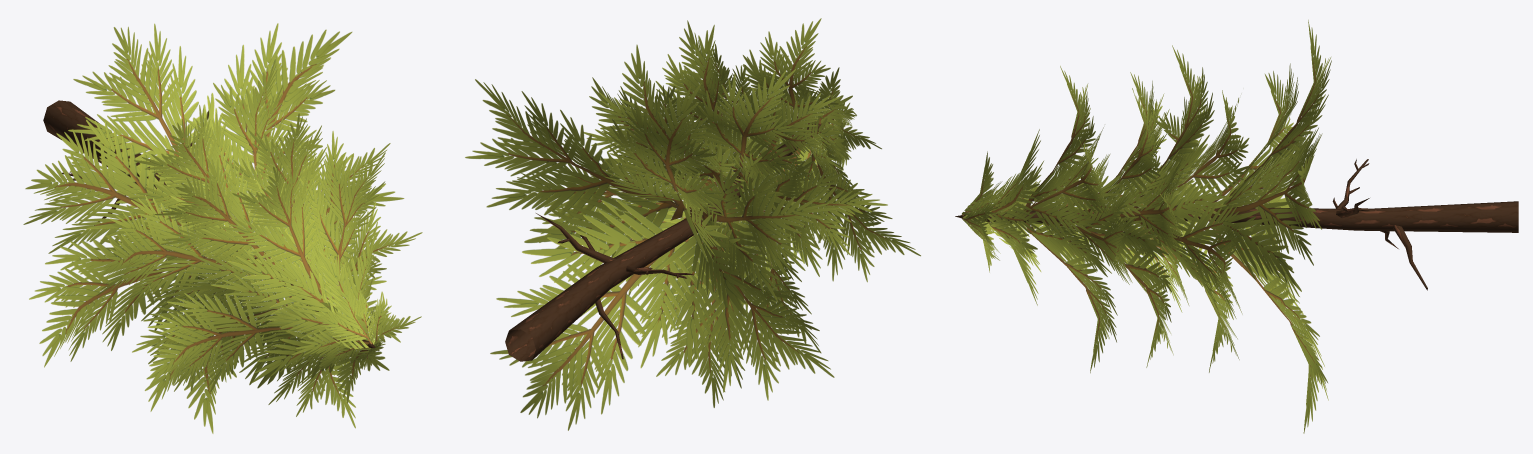
File: PineTree_1.glb
The picture shows the model from 3 angles, left to right: view 1: azimuth 30°, elevation 25°; view 2: azimuth 150°, elevation 25°; view 3: azimuth 270°, elevation 25°; orthographic projection. The views are drawn at different scales.
Parts seen in each view (by area): view 1: PineTree_1; view 2: PineTree_1; view 3: PineTree_1.
Part boxes in pixels (x1,y1,x2,y2): PineTree_1: (23,23,422,433); PineTree_1: (465,18,920,430); PineTree_1: (955,20,1518,433).
Size of the model in its own units: 2.98 by 3.03 by 4.5.
2 materials, 2 textured.
